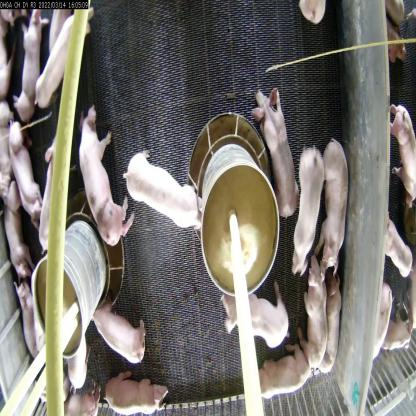Pig: (70, 101, 135, 248), (249, 73, 298, 224), (121, 144, 202, 228), (33, 10, 96, 104), (216, 284, 289, 359), (286, 148, 324, 276), (36, 124, 68, 251), (257, 340, 315, 410), (322, 132, 350, 272), (88, 302, 145, 366), (300, 251, 328, 378), (7, 125, 42, 223), (106, 369, 166, 416), (322, 267, 348, 373), (54, 383, 109, 415), (14, 280, 36, 351), (62, 339, 90, 384)
